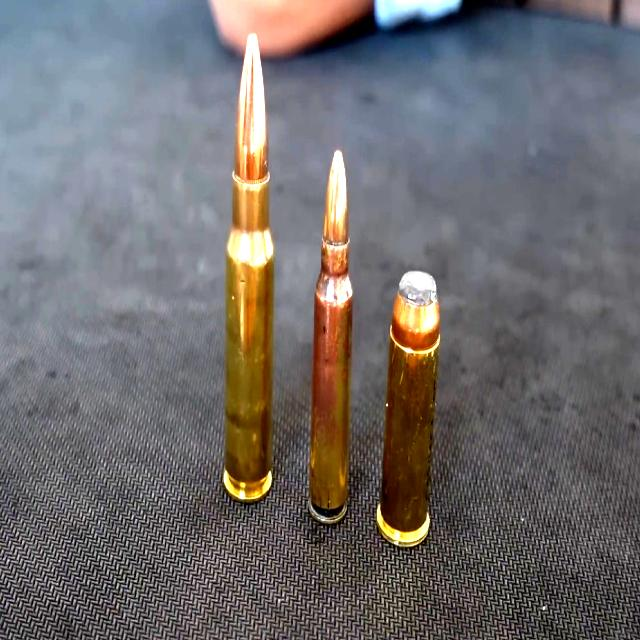rifle: (215, 17, 449, 580)
